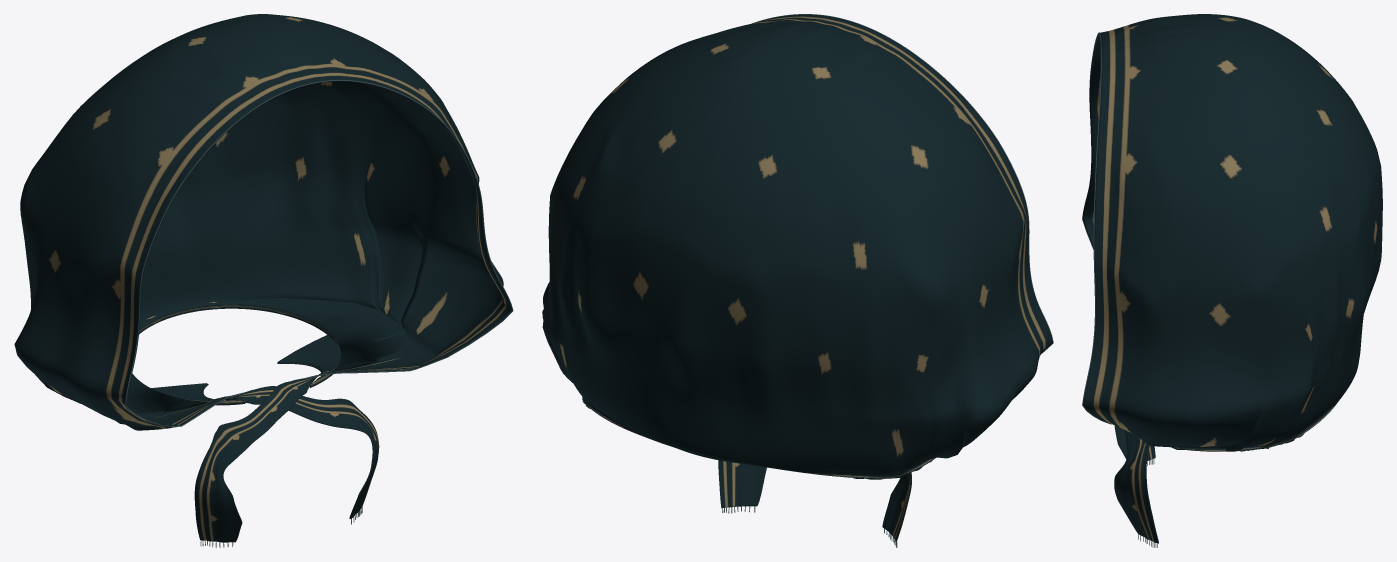
The model's file is Feminine-curls-open-pashmina249-headgear.glb.
The picture shows the model from 3 angles, left to right: view 1: azimuth 30°, elevation 25°; view 2: azimuth 150°, elevation 25°; view 3: azimuth 270°, elevation 25°; orthographic projection. The views are drawn at different scales.
Visible parts, largest first — view 1: 226 headgear / Headwear / continuous woven pashmina239, 226 headgear / Headwear / face edge239; view 2: 226 headgear / Headwear / continuous woven pashmina239, 226 headgear / Headwear / face edge239; view 3: 226 headgear / Headwear / continuous woven pashmina239, 226 headgear / Headwear / face edge239.
Boxes of the visible parts, bbox=[...] form: 226 headgear / Headwear / continuous woven pashmina239: bbox=[14, 14, 512, 542]; 226 headgear / Headwear / face edge239: bbox=[125, 80, 513, 426]; 226 headgear / Headwear / continuous woven pashmina239: bbox=[542, 14, 1052, 541]; 226 headgear / Headwear / face edge239: bbox=[752, 14, 1053, 353]; 226 headgear / Headwear / continuous woven pashmina239: bbox=[1082, 14, 1382, 543]; 226 headgear / Headwear / face edge239: bbox=[1082, 32, 1111, 424].
Size of the model in its own units: 1.34 by 1.41 by 0.8038.
3 materials, 1 textured.
